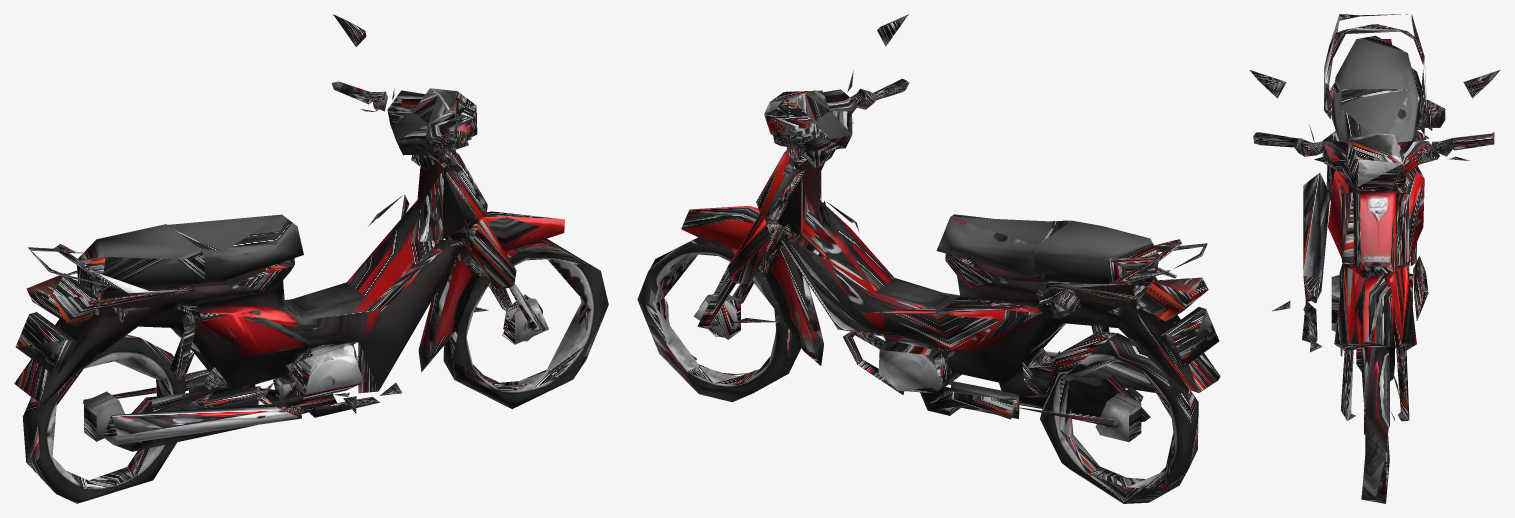
The model's file is underbone.glb.
3 views of the same model, side by side, from view 1: azimuth 30°, elevation 25°; view 2: azimuth 150°, elevation 25°; view 3: azimuth 270°, elevation 25° (orthographic).
Visible parts, largest first — view 1: tripo_node_01a2204c-001e-71a9-acb1-5306704bfd48; view 2: tripo_node_01a2204c-001e-71a9-acb1-5306704bfd48; view 3: tripo_node_01a2204c-001e-71a9-acb1-5306704bfd48.
Part boxes in pixels (box(x1,y1,x2,y2)): tripo_node_01a2204c-001e-71a9-acb1-5306704bfd48: box(14, 14, 608, 503); tripo_node_01a2204c-001e-71a9-acb1-5306704bfd48: box(637, 14, 1220, 503); tripo_node_01a2204c-001e-71a9-acb1-5306704bfd48: box(1249, 14, 1500, 503).
Size of the model in its own units: 0.9922 by 0.6114 by 0.3808.
Materials: 1 (1 with a texture image).
